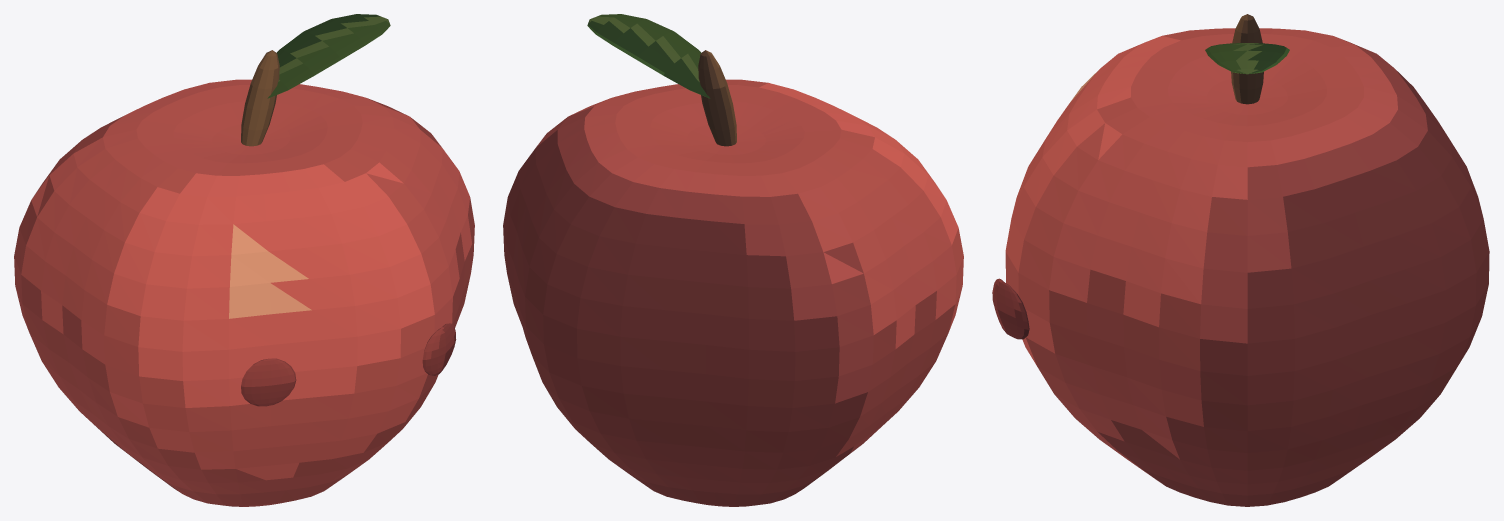
The model's file is apple.glb.
3 renders of one model, left to right at view 1: azimuth 30°, elevation 25°; view 2: azimuth 150°, elevation 25°; view 3: azimuth 270°, elevation 25°, orthographic. The views are drawn at different scales.
Visible parts, largest first — view 1: apple; view 2: apple; view 3: apple.
Part boxes in pixels (left/top/right/bottom): apple: left=14, top=14, right=474, bottom=506; apple: left=503, top=14, right=963, bottom=506; apple: left=992, top=14, right=1489, bottom=506.
Bounding box in the file's own units: 1.82 × 1.87 × 1.75.
